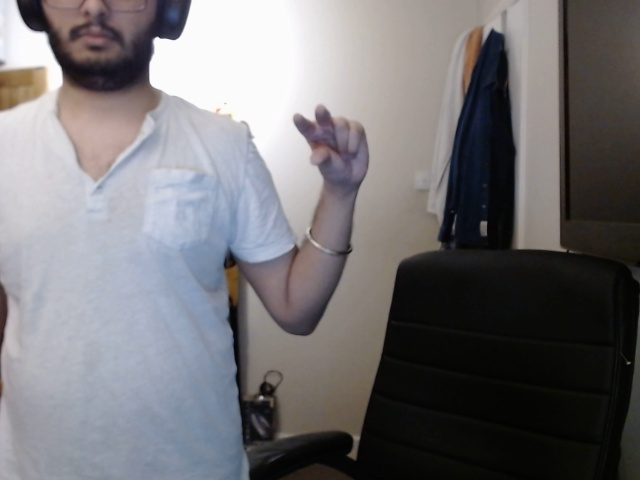No: (289, 100, 376, 184)
